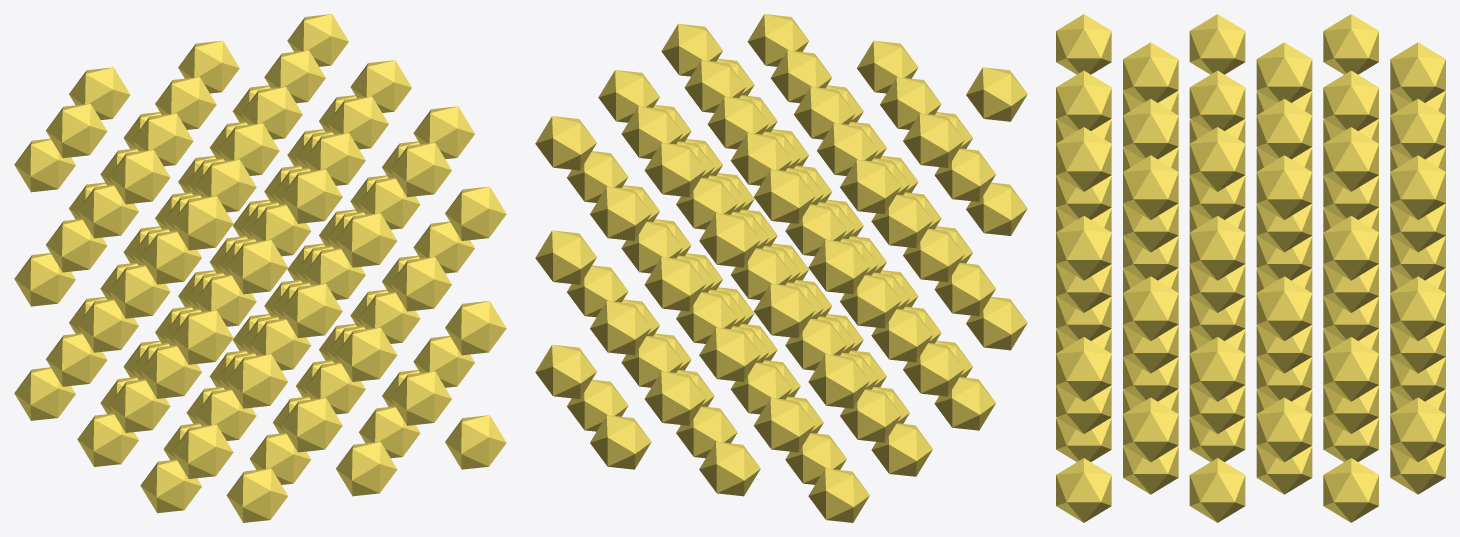
Rendered from au_nanocluster.glb.
3 renders of one model, left to right at view 1: azimuth 30°, elevation 25°; view 2: azimuth 150°, elevation 25°; view 3: azimuth 270°, elevation 25°, orthographic. The views are drawn at different scales.
Bounding box in the file's own units: 11.9 × 11.9 × 11.9.
